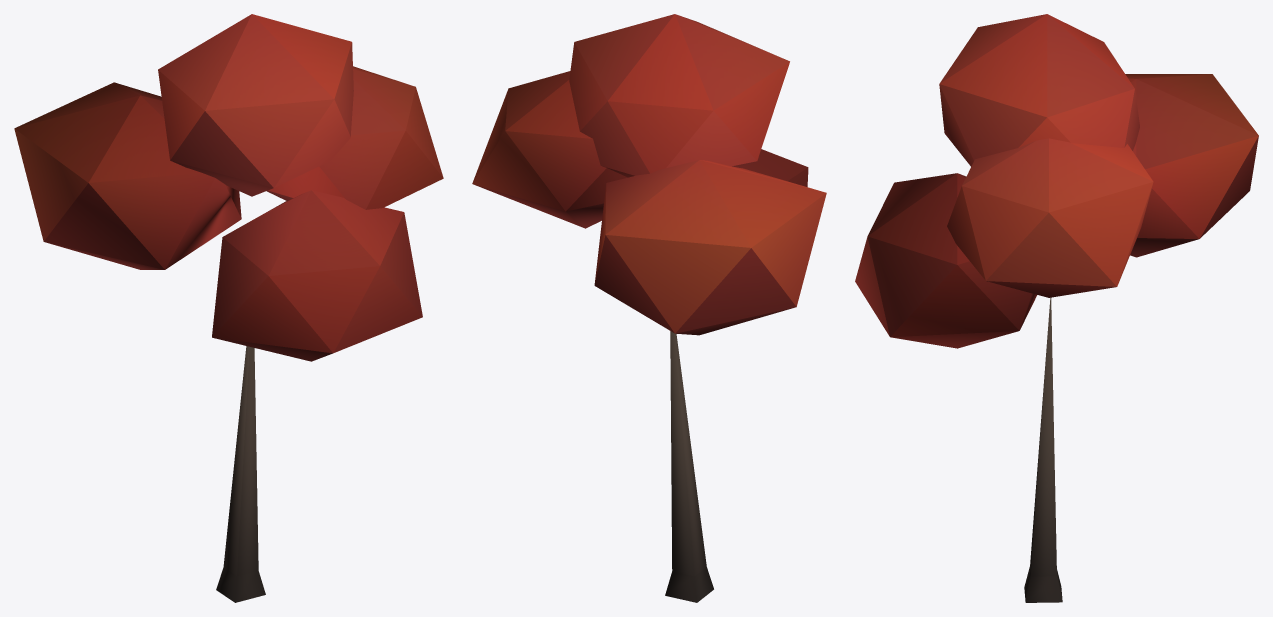
File: maple_red_lod1.glb
3 renders of one model, left to right at view 1: azimuth 30°, elevation 25°; view 2: azimuth 150°, elevation 25°; view 3: azimuth 270°, elevation 25°, orthographic. The views are drawn at different scales.
Visible parts, largest first — view 1: maple_red_lod1; view 2: maple_red_lod1; view 3: maple_red_lod1.
Boxes of the visible parts, x1,y1,x2,y2 form: maple_red_lod1: [14, 14, 443, 602]; maple_red_lod1: [472, 14, 826, 602]; maple_red_lod1: [855, 14, 1258, 602].
Size of the model in its own units: 5.21 by 8.59 by 5.36.
